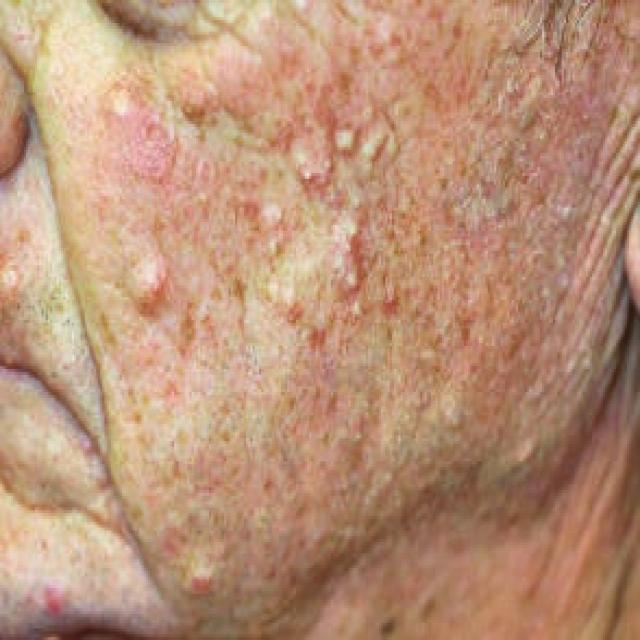Seborrheic-Keratoses-and-other-Benign-Tumors: (101, 58, 577, 378)
